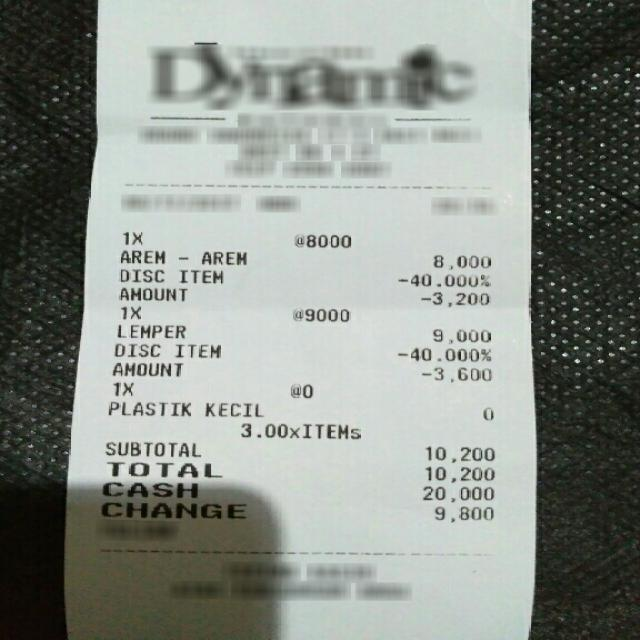kertas: (66, 1, 536, 640)
